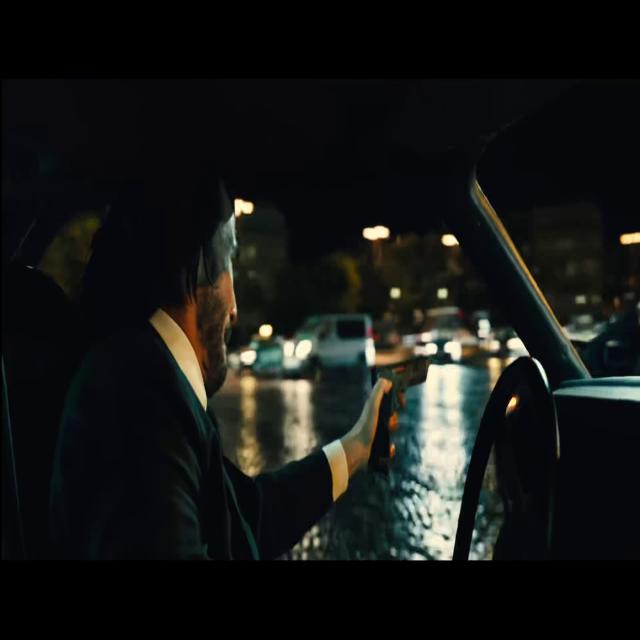weapons: (365, 344, 437, 472)
